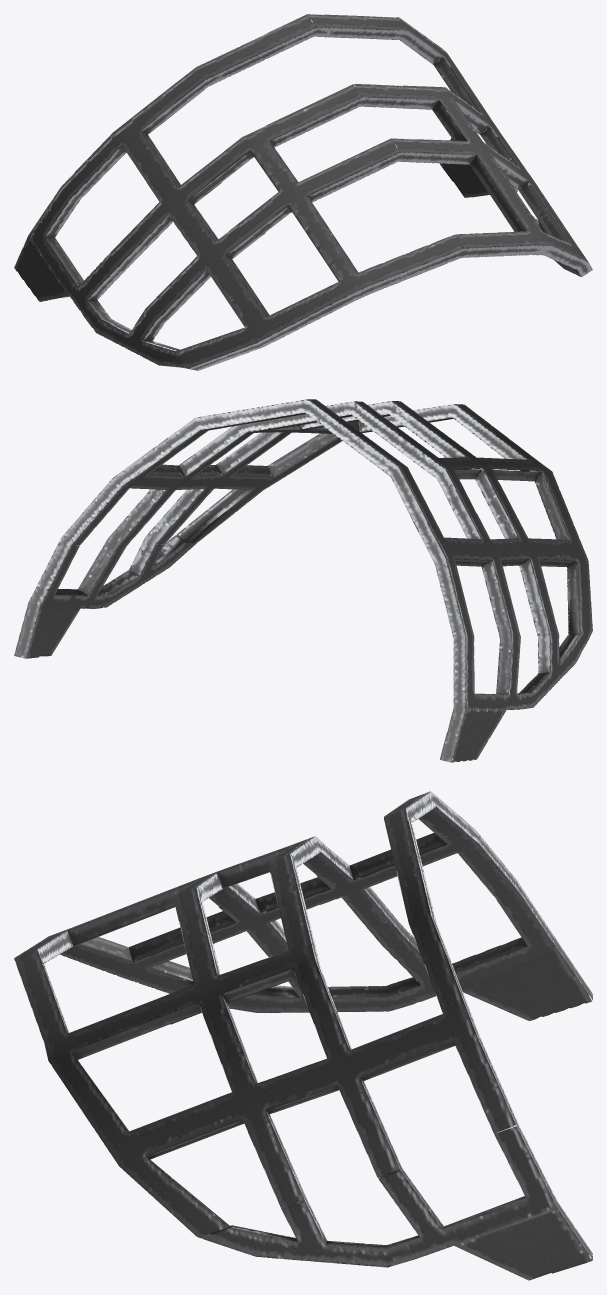
The model's file is W_Hat_Riot_Visor.FBX.
3 views of the same model, one above another, from view 1: azimuth 30°, elevation 25°; view 2: azimuth 150°, elevation 25°; view 3: azimuth 270°, elevation 25° (orthographic). The views are drawn at different scales.
Visible parts, largest first — view 1: Sphere003; view 2: Sphere003; view 3: Sphere003.
Part boxes in pixels (x1,y1,x2,y2): Sphere003: (14,14,592,370); Sphere003: (14,399,592,762); Sphere003: (14,791,592,1280).
Bounding box in the file's own units: 17.06 × 10.11 × 15.65.
